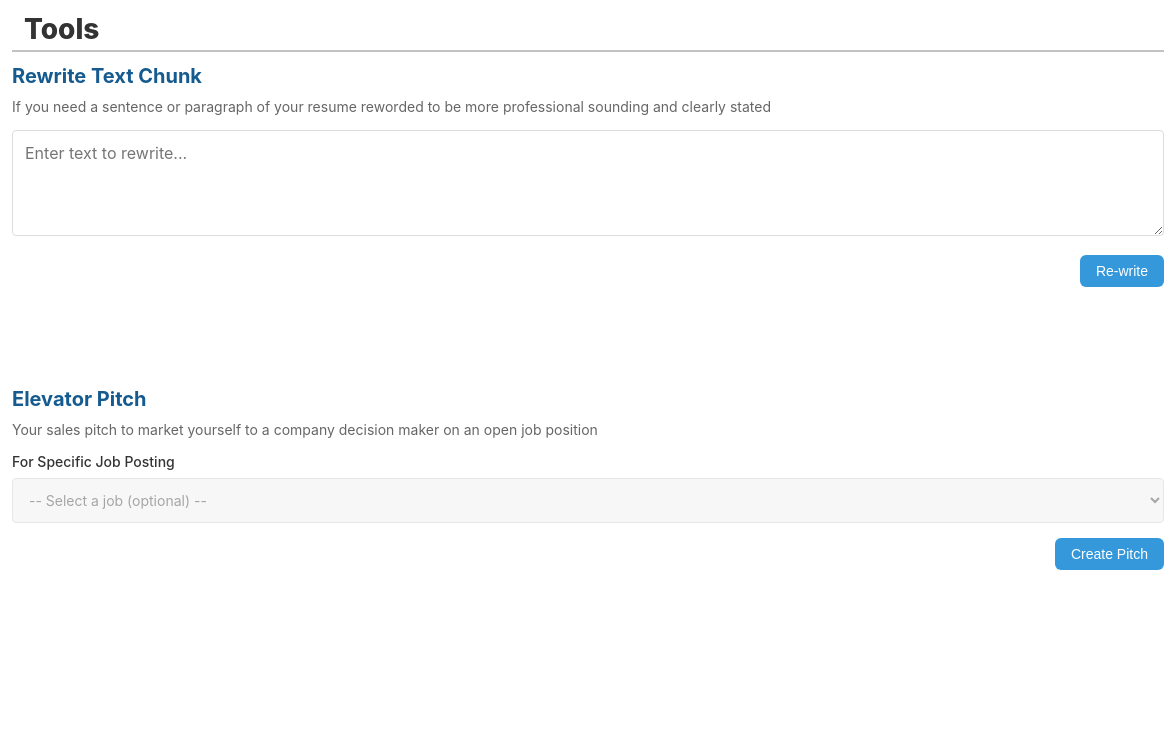
Scenario: Tools Component › Rewrite Text Functionality › handles rewrite API error
In the text box with placeholder "Enter text to rewrite...": {"x": 588, "y": 183} left=12, top=130, right=1164, bottom=236, type "Some text"
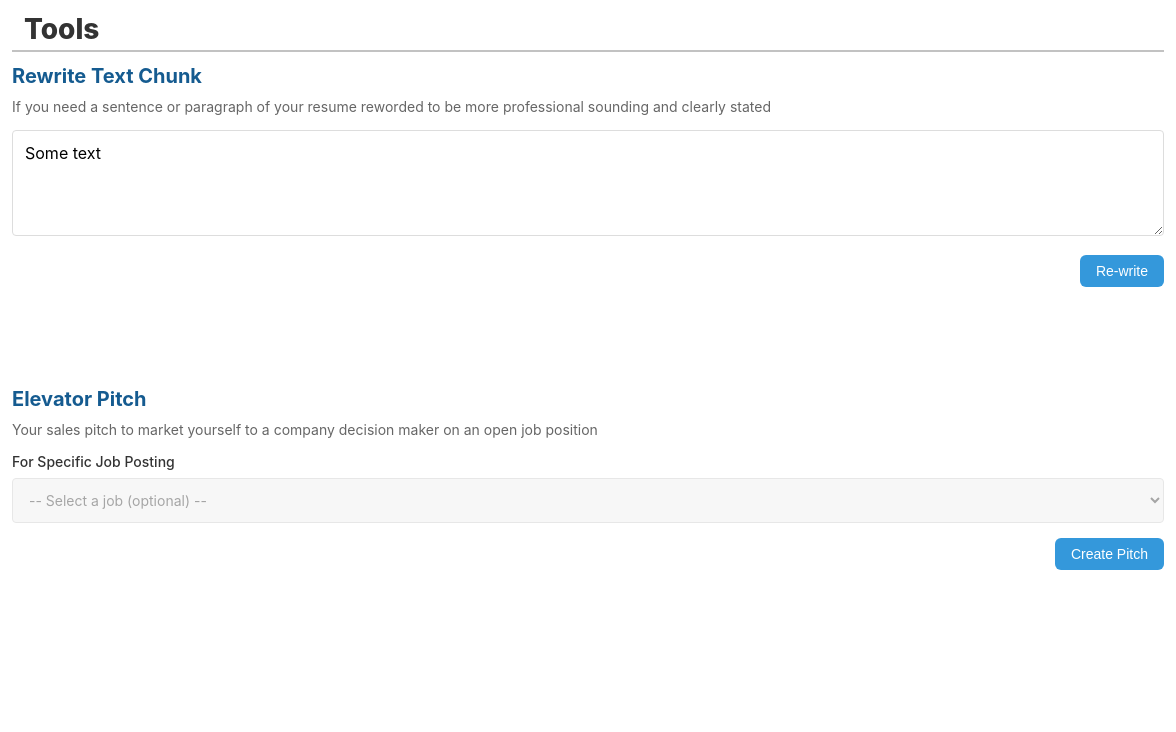
Click the button "Re-write": {"x": 1122, "y": 271} left=1080, top=255, right=1164, bottom=287
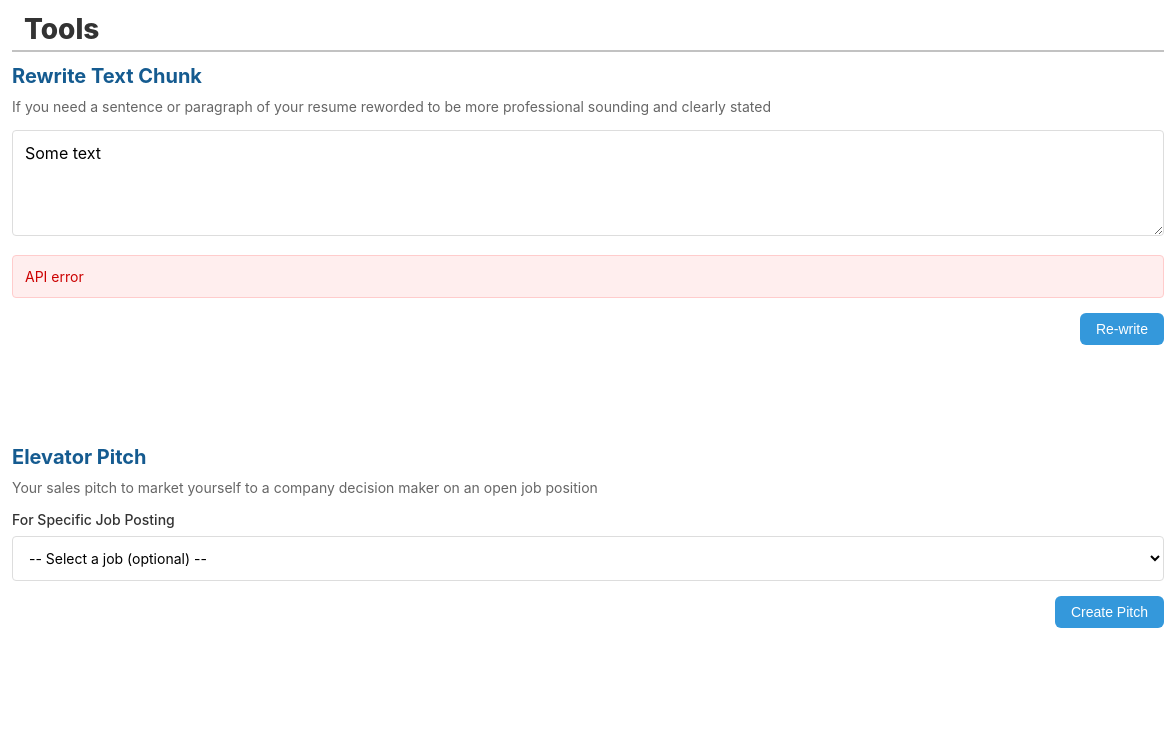
Result: the text "API error" is shown at left=12, top=255, right=1164, bottom=298
